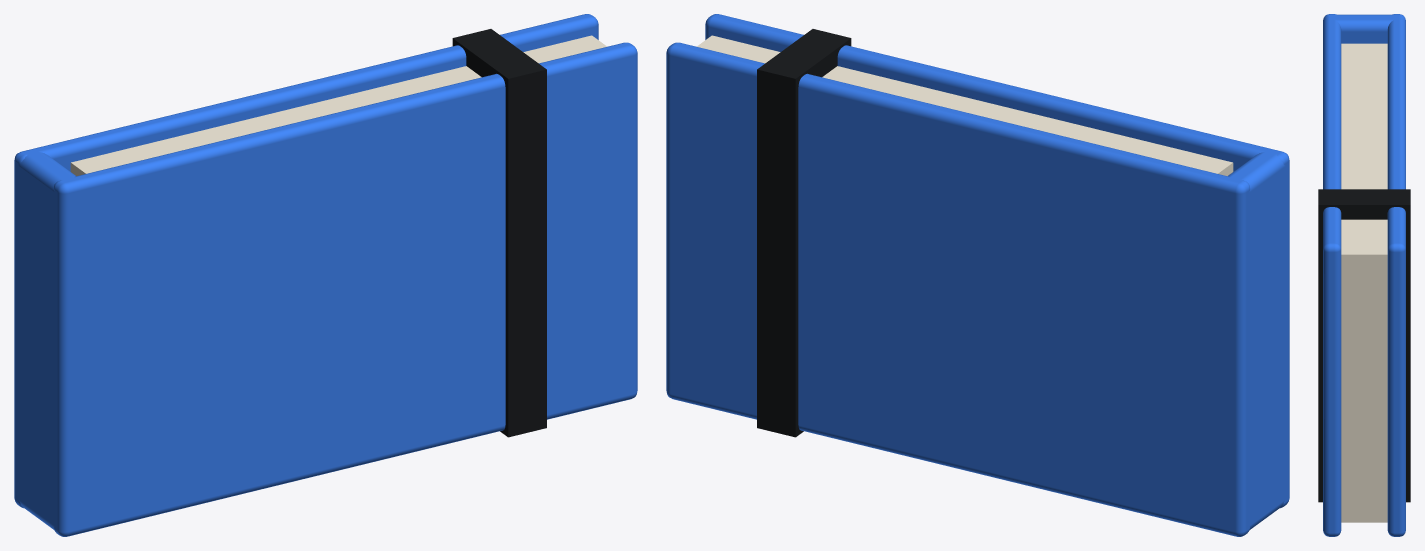
The model's file is notebook.obj.
3 renders of one model, left to right at view 1: azimuth 30°, elevation 25°; view 2: azimuth 150°, elevation 25°; view 3: azimuth 270°, elevation 25°, orthographic. The views are drawn at different scales.
Parts seen in each view (by area): view 1: notebook_0_900, notebook_2_2724, notebook_0_1800, notebook_0_0, notebook_1_2700; view 2: notebook_0_0, notebook_2_2724, notebook_0_1800, notebook_0_900, notebook_1_2700; view 3: notebook_1_2700, notebook_0_0, notebook_0_900, notebook_2_2724, notebook_0_1800.
Boxes of the visible parts, x1=… form: notebook_0_900: x1=54, y1=42, x2=637, y2=536; notebook_2_2724: x1=452, y1=29, x2=546, y2=437; notebook_0_1800: x1=17, y1=150, x2=80, y2=529; notebook_0_0: x1=14, y1=14, x2=598, y2=508; notebook_1_2700: x1=70, y1=35, x2=606, y2=176; notebook_0_0: x1=666, y1=42, x2=1250, y2=536; notebook_2_2724: x1=757, y1=29, x2=851, y2=437; notebook_0_1800: x1=1223, y1=150, x2=1286, y2=529; notebook_0_900: x1=705, y1=14, x2=1289, y2=508; notebook_1_2700: x1=697, y1=35, x2=1233, y2=176; notebook_1_2700: x1=1341, y1=43, x2=1387, y2=522; notebook_0_0: x1=1387, y1=14, x2=1405, y2=536; notebook_0_900: x1=1323, y1=14, x2=1341, y2=536; notebook_2_2724: x1=1318, y1=189, x2=1410, y2=502; notebook_0_1800: x1=1332, y1=14, x2=1396, y2=43.
Bounding box in the file's own units: 0.12 × 0.071 × 0.02.
